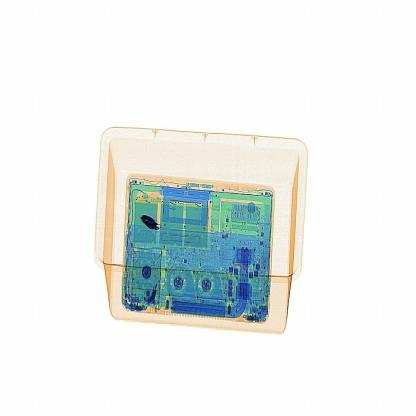scissors: (140, 208, 165, 244)
